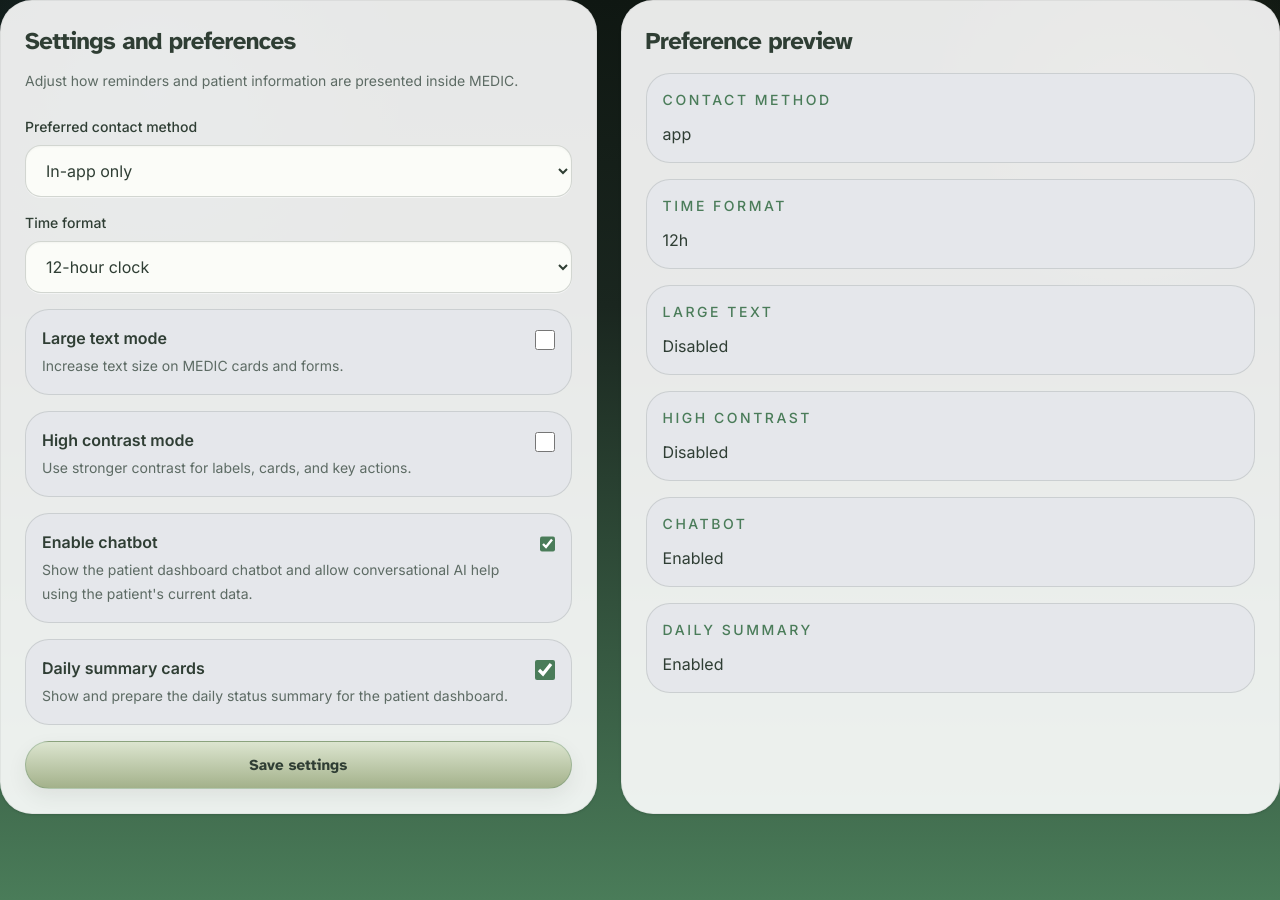
Test: SettingsManager › saves the chatbot preference alongside the other settings
Click the checkbox labelled "Enable chatbot". click: (547, 544)
box: [540, 534, 555, 554]
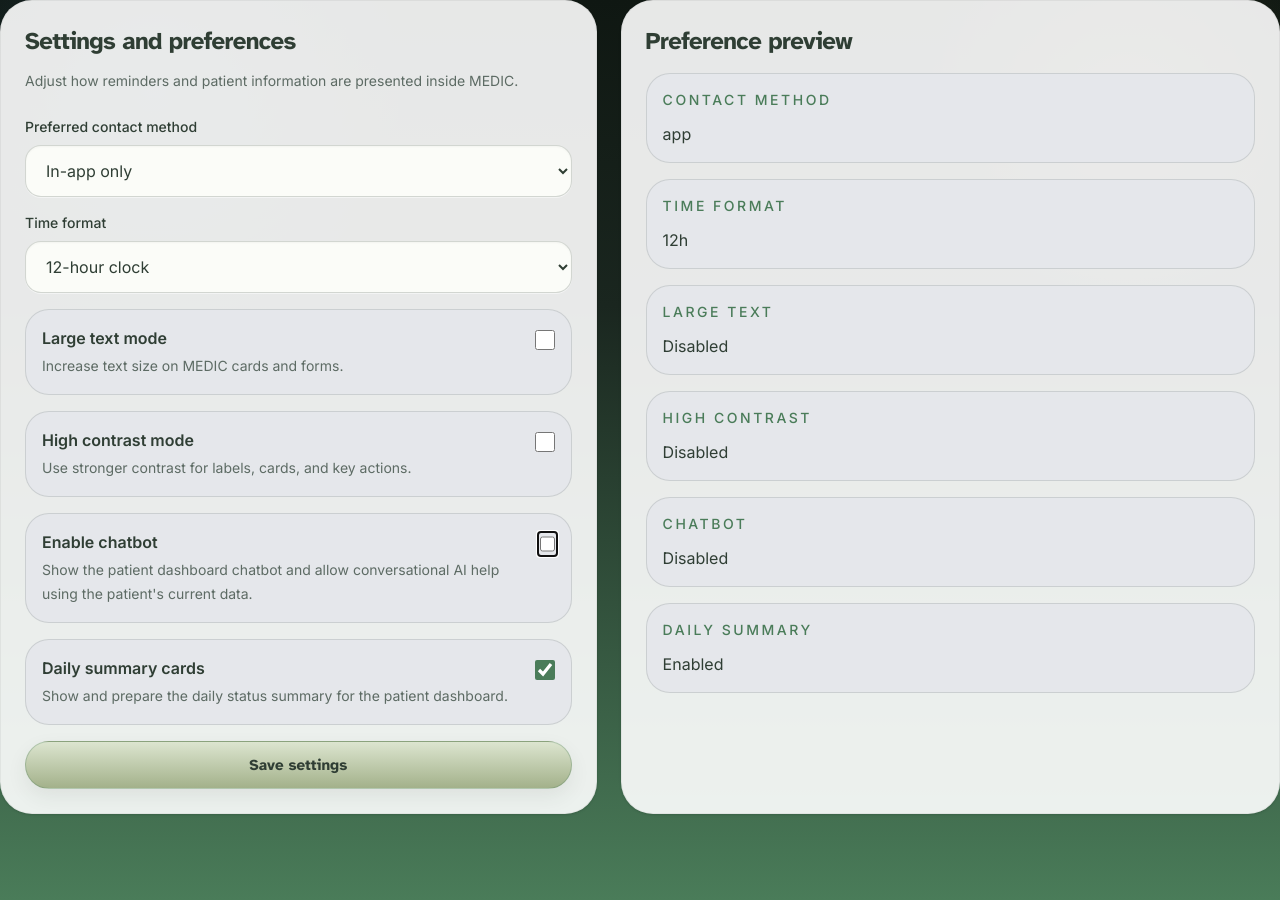
Click the button "Save settings". click: (298, 765)
box: [25, 741, 572, 789]
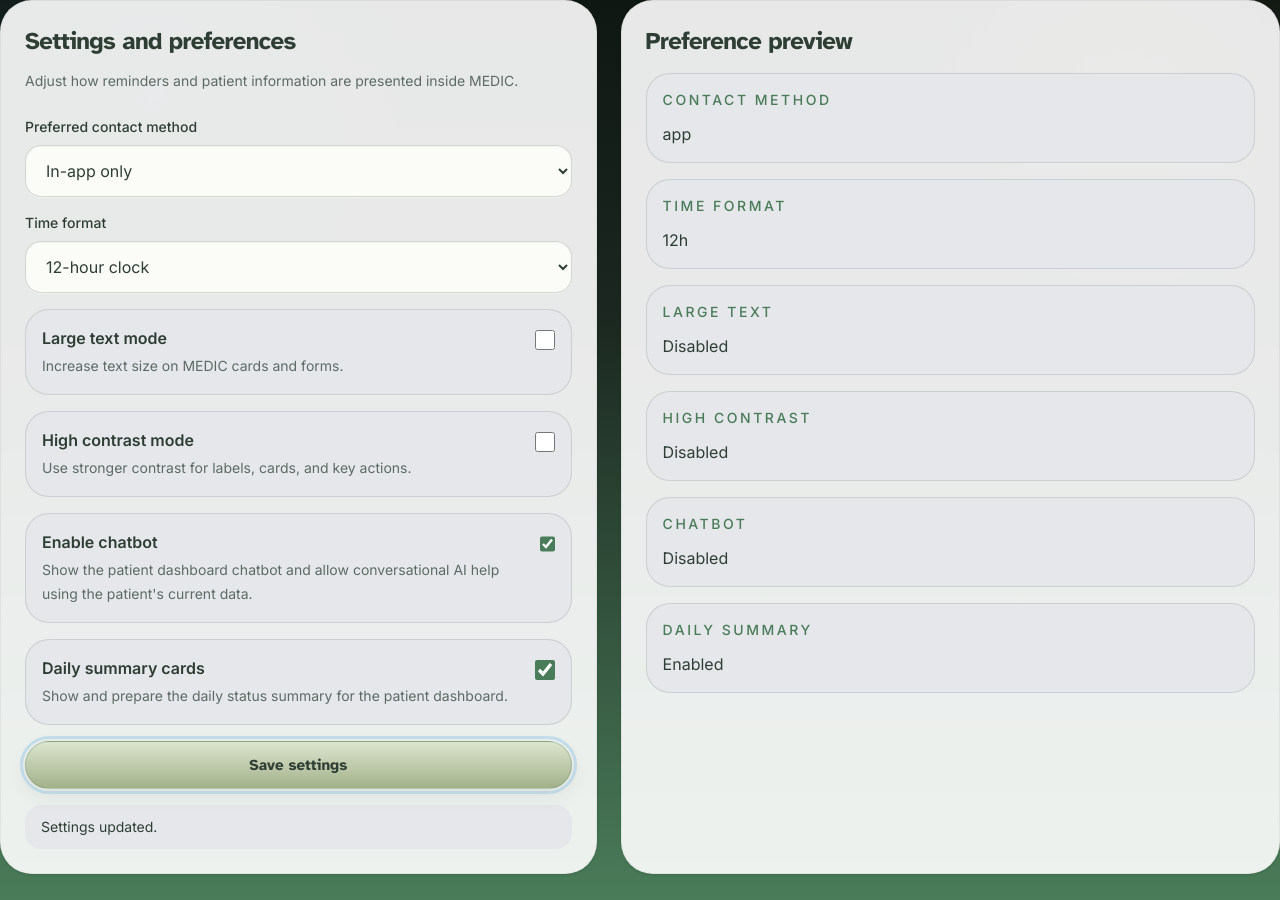
Check: the text "Settings updated." is shown, box [25, 805, 572, 849]
